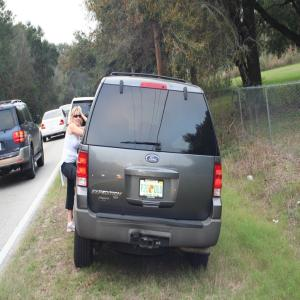Vehicle-registration-plate: (139, 177, 165, 200)
